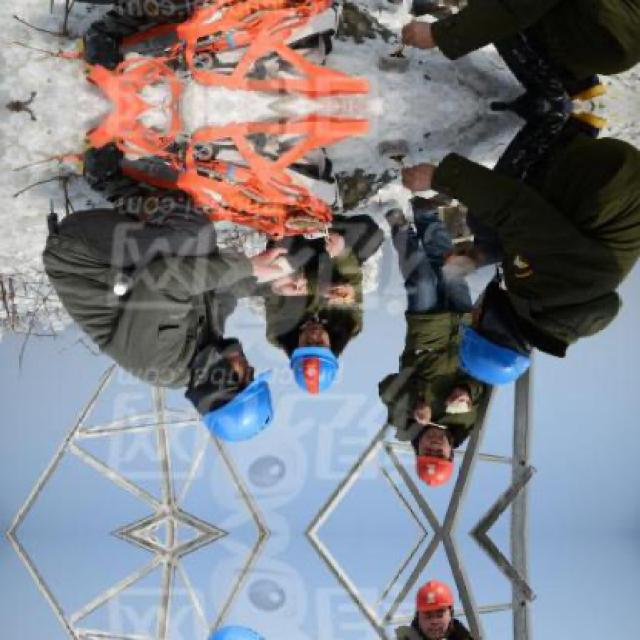con casco: (137, 321, 282, 464), (341, 397, 476, 495), (478, 299, 605, 398), (251, 310, 372, 394)
